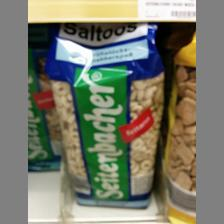Cerealien: (44, 25, 164, 209)
